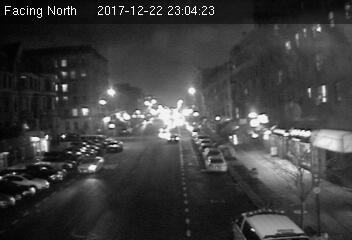car: (76, 155, 105, 174), (204, 155, 228, 171), (104, 140, 123, 152), (165, 134, 180, 144)
police: (230, 204, 312, 240)
